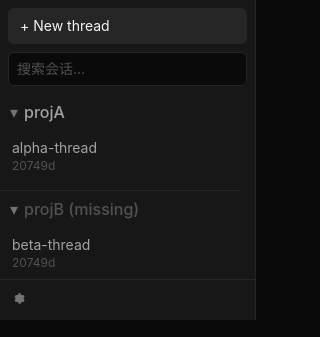
Scenario: ThreadSidebar › hides a group's thread rows when collapsed and restores them on expand
The image size is (320, 337).
What coordinates should you click on to do the following:
click the button named "Collapse"
I would click on:
 (14, 112)
Its box is [8,100,20,124].
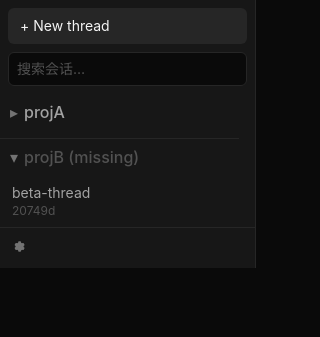
expect the text "beta-thread" is shown: met, box [12,183,90,203]
expect the text "alpha-thread" is gone: met
What coordinates should you click on to do the following:
click the button named "Collapse"
I would click on:
 (14, 112)
Its box is [8,100,20,124].
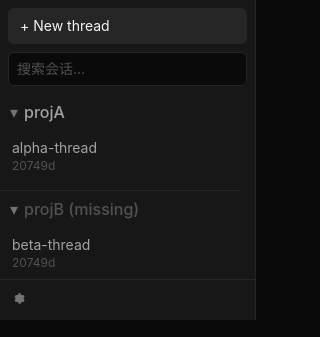
expect the text "alpha-thread" is shown: met, box [12,138,97,158]
